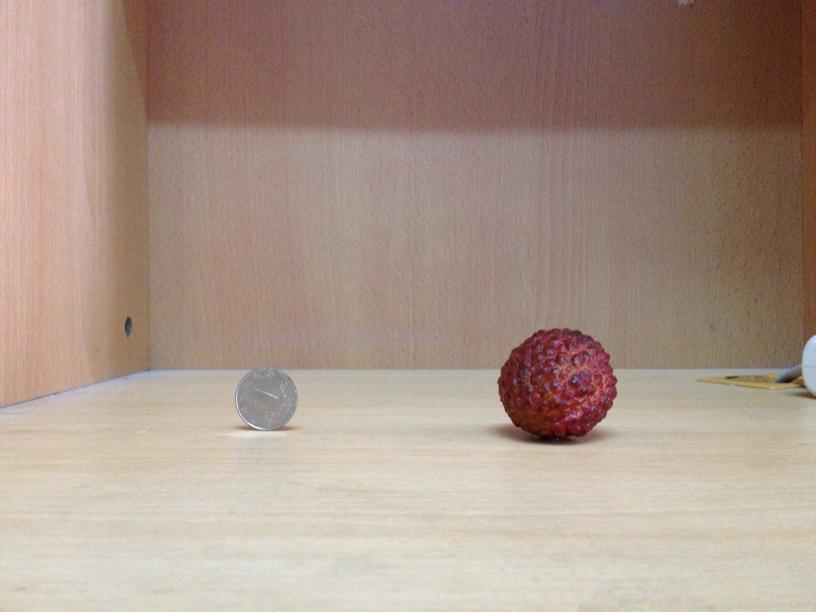coin: (232, 368, 296, 433)
litchi: (498, 320, 616, 440)
